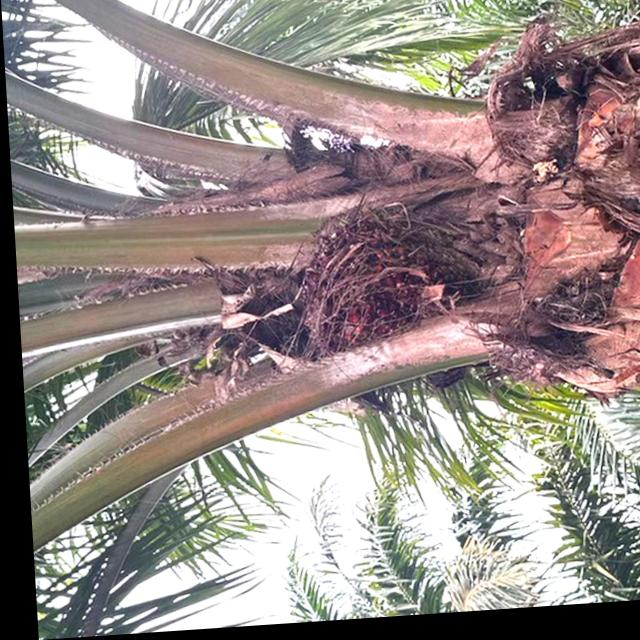ripe: (274, 197, 464, 370)
